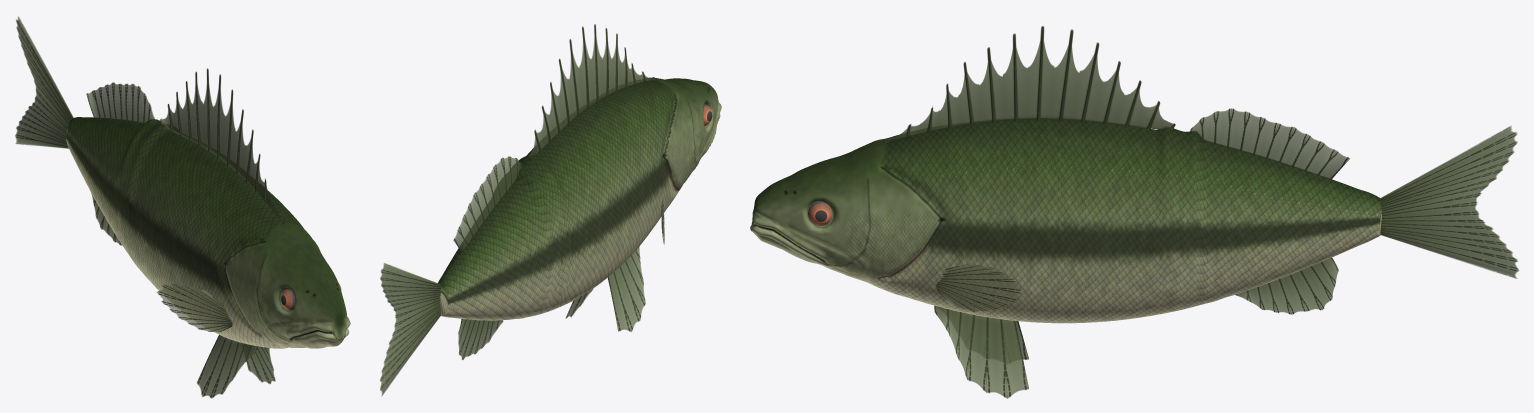
File: bass.glb
The picture shows the model from 3 angles, left to right: view 1: azimuth 30°, elevation 25°; view 2: azimuth 150°, elevation 25°; view 3: azimuth 270°, elevation 25°; orthographic projection. The views are drawn at different scales.
Visible parts, largest first — view 1: Body, FinDorsal1, FinCaudal, FinPelvic, FinPectoral, FinDorsal2, FinAnal; view 2: Body, FinDorsal1, FinCaudal, FinPelvic, FinDorsal2, FinAnal; view 3: Body, FinDorsal1, FinCaudal, FinPelvic, FinDorsal2, FinAnal, FinPectoral.
Boxes of the visible parts, x1,y1,x2,y2 form: Body: [66, 117, 350, 348]; FinDorsal1: [160, 68, 285, 224]; FinCaudal: [15, 16, 73, 148]; FinPelvic: [197, 335, 275, 398]; FinPectoral: [157, 283, 232, 332]; FinDorsal2: [86, 82, 154, 123]; FinAnal: [91, 193, 122, 245]; Body: [438, 78, 721, 320]; FinDorsal1: [528, 24, 654, 159]; FinCaudal: [380, 263, 440, 396]; FinPelvic: [565, 246, 645, 331]; FinDorsal2: [453, 156, 522, 252]; FinAnal: [458, 319, 503, 360]; Body: [750, 119, 1381, 323]; FinDorsal1: [884, 26, 1175, 143]; FinCaudal: [1380, 126, 1519, 278]; FinPelvic: [934, 305, 1028, 398]; FinDorsal2: [1190, 108, 1349, 179]; FinAnal: [1235, 257, 1338, 314]; FinPectoral: [936, 263, 1022, 311].
Size of the model in its own units: 0.2444 by 0.5309 by 1.
9 materials, 8 textured.
